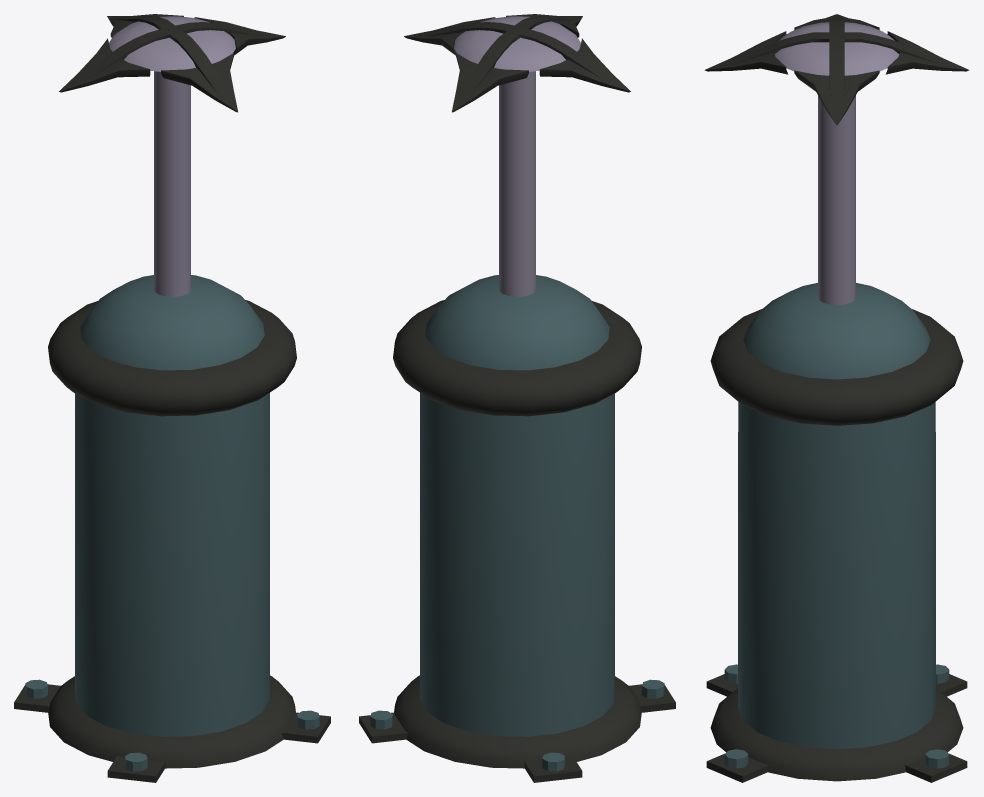
The model's file is CA_108_directional_arrow_base.glb.
The picture shows the model from 3 angles, left to right: view 1: azimuth 30°, elevation 25°; view 2: azimuth 150°, elevation 25°; view 3: azimuth 270°, elevation 25°; orthographic projection.
Parts seen in each view (by area): view 1: base, floor_attachment; view 2: base, floor_attachment; view 3: base, floor_attachment.
Part boxes in pixels (x1,y1,x2,y2): base: (48, 14, 296, 768); floor_attachment: (14, 679, 330, 782); base: (393, 14, 641, 768); floor_attachment: (359, 679, 675, 782); base: (704, 14, 969, 781); floor_attachment: (706, 664, 967, 782).
Size of the model in its own units: 0.75 by 2.16 by 0.75.
